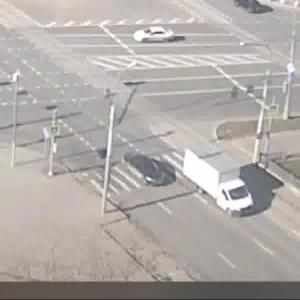car: (179, 147, 255, 216), (121, 156, 174, 192), (126, 19, 183, 48), (230, 2, 266, 18)
